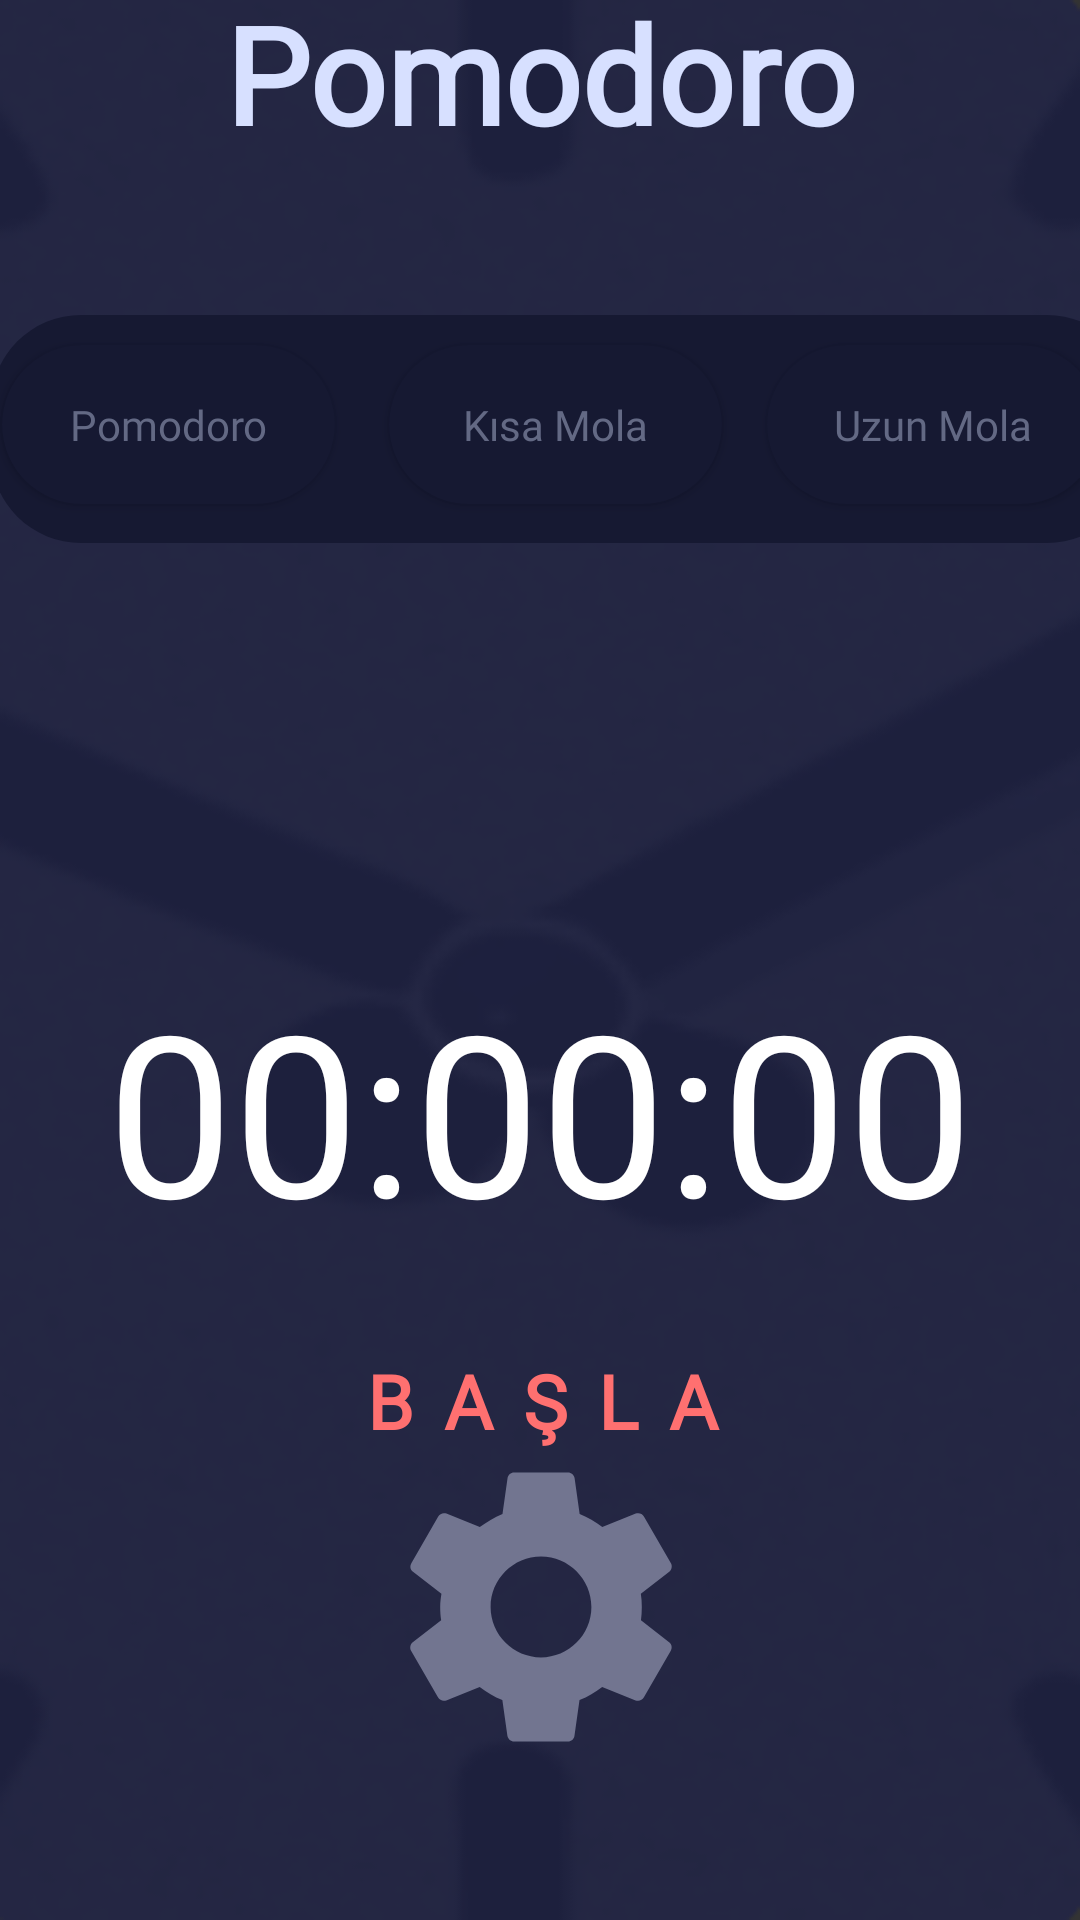

Named icons in this screenshot (1080 × 1920) and their centers, (x,y):
Ayarlar butonu: (541,1607)
